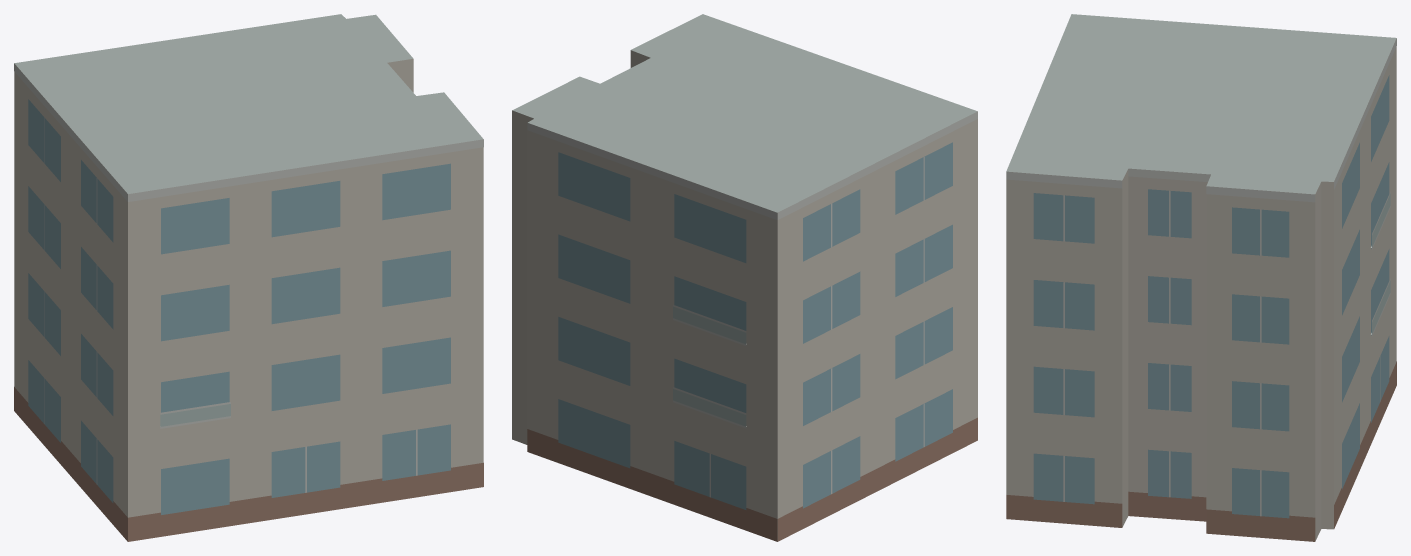
Rendered from survey-upis-32690394.glb.
3 views of the same model, side by side, from view 1: azimuth 30°, elevation 25°; view 2: azimuth 150°, elevation 25°; view 3: azimuth 270°, elevation 25° (orthographic). The views are drawn at different scales.
Visible parts, largest first — view 1: survey-upis-32690394.tmp; view 2: survey-upis-32690394.tmp; view 3: survey-upis-32690394.tmp.
Part boxes in pixels (x1,y1,x2,y2): survey-upis-32690394.tmp: (14,14,483,541); survey-upis-32690394.tmp: (512,14,977,541); survey-upis-32690394.tmp: (1006,14,1396,541).
Size of the model in its own units: 11.93 by 10.7 by 10.91.
